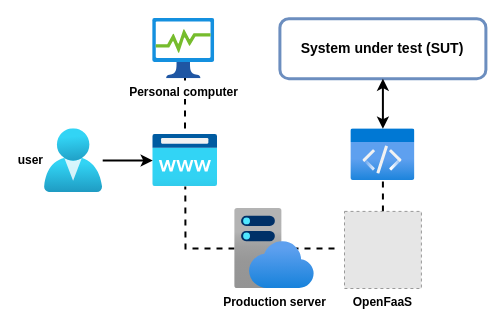
Image size: 504x327. Some labels were removed from this diagram. Grey dashed boxes stand in for pictures. Here are the shapes that lost their labels. From the top down, the box of each, then its label:
(152, 134, 217, 186): Web-Service
(350, 128, 414, 180): Load testing tool
